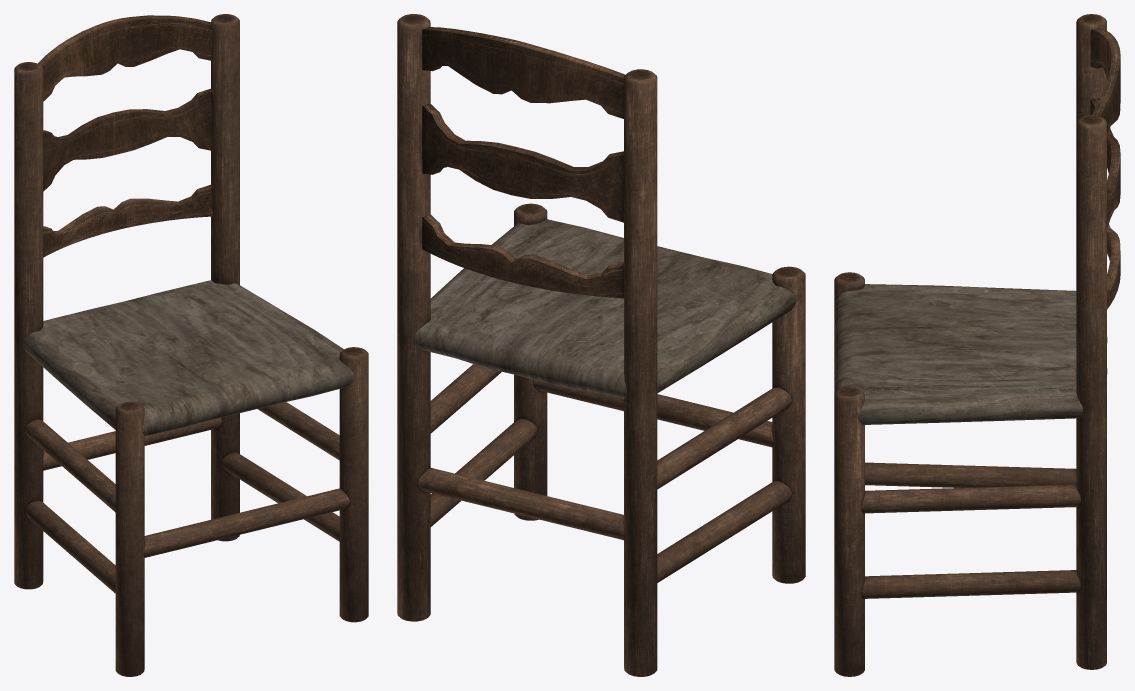
The model's file is ruined-chair.glb.
3 views of the same model, side by side, from view 1: azimuth 30°, elevation 25°; view 2: azimuth 150°, elevation 25°; view 3: azimuth 270°, elevation 25° (orthographic). The views are drawn at different scales.
Parts seen in each view (by area): view 1: Cylinder, Cylinder003, Cube002, Cylinder001; view 2: Cylinder, Cylinder003, Cube002, Cylinder001; view 3: Cylinder003, Cylinder, Cylinder001, Cube002.
Part boxes in pixels (x1,y1,x2,y2): Cylinder: (14, 14, 368, 676); Cylinder003: (22, 280, 354, 436); Cube002: (37, 15, 212, 257); Cylinder001: (24, 402, 349, 593); Cylinder: (397, 14, 805, 676); Cylinder003: (412, 219, 796, 398); Cube002: (422, 27, 625, 298); Cylinder001: (417, 364, 792, 582); Cylinder003: (834, 284, 1107, 424); Cylinder: (834, 14, 1106, 676); Cylinder001: (861, 462, 1081, 598); Cube002: (1090, 28, 1120, 309).
Size of the model in its own units: 0.7511 by 1.53 by 0.7095.
1 material, 1 textured.
